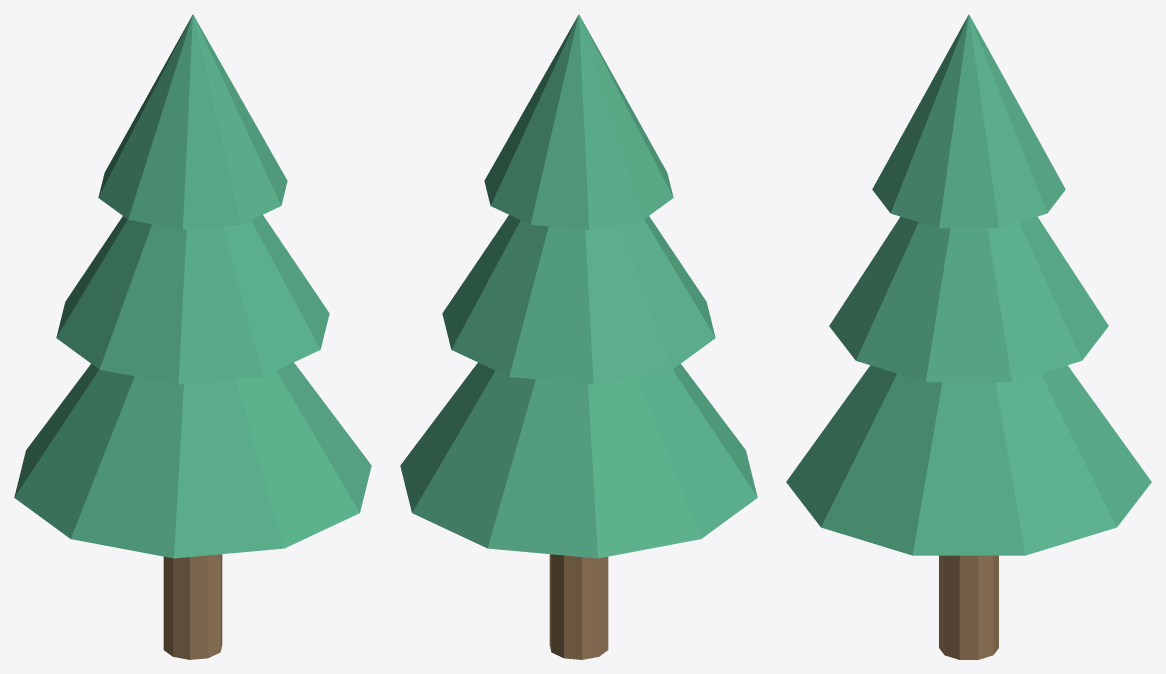
File: tree.glb
3 views of the same model, side by side, from view 1: azimuth 30°, elevation 25°; view 2: azimuth 150°, elevation 25°; view 3: azimuth 270°, elevation 25° (orthographic).
Parts seen in each view (by area): view 1: Leaf1, Leaf2, Leaf3, Trunk; view 2: Leaf1, Leaf2, Leaf3, Trunk; view 3: Leaf1, Leaf2, Leaf3, Trunk.
Part boxes in pixels (bbox=[...]): Leaf1: bbox=[14, 362, 371, 558]; Leaf2: bbox=[56, 215, 329, 384]; Leaf3: bbox=[98, 14, 287, 229]; Trunk: bbox=[163, 554, 222, 659]; Leaf1: bbox=[400, 362, 757, 558]; Leaf2: bbox=[442, 215, 715, 384]; Leaf3: bbox=[484, 14, 673, 229]; Trunk: bbox=[549, 554, 608, 659]; Leaf1: bbox=[786, 365, 1151, 555]; Leaf2: bbox=[829, 216, 1108, 382]; Leaf3: bbox=[872, 14, 1065, 228]; Trunk: bbox=[939, 555, 998, 659].
Bounding box in the file's own units: 3.23 × 6.5 × 3.4.
